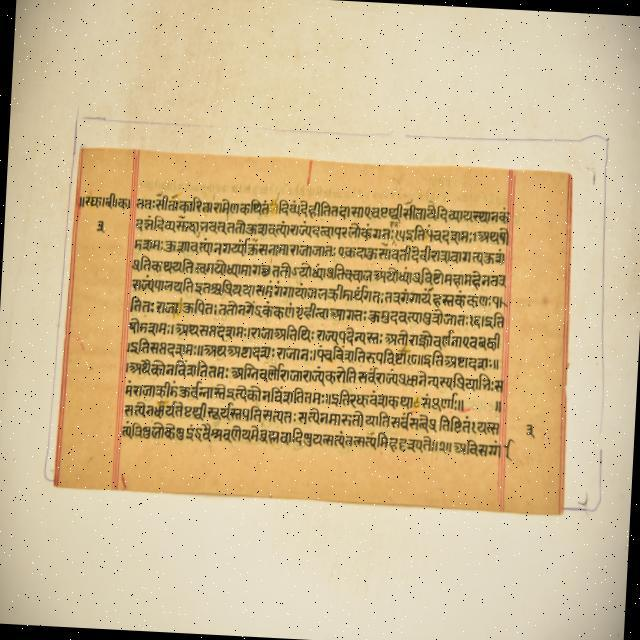text_paragraph: (49, 145, 575, 520)
